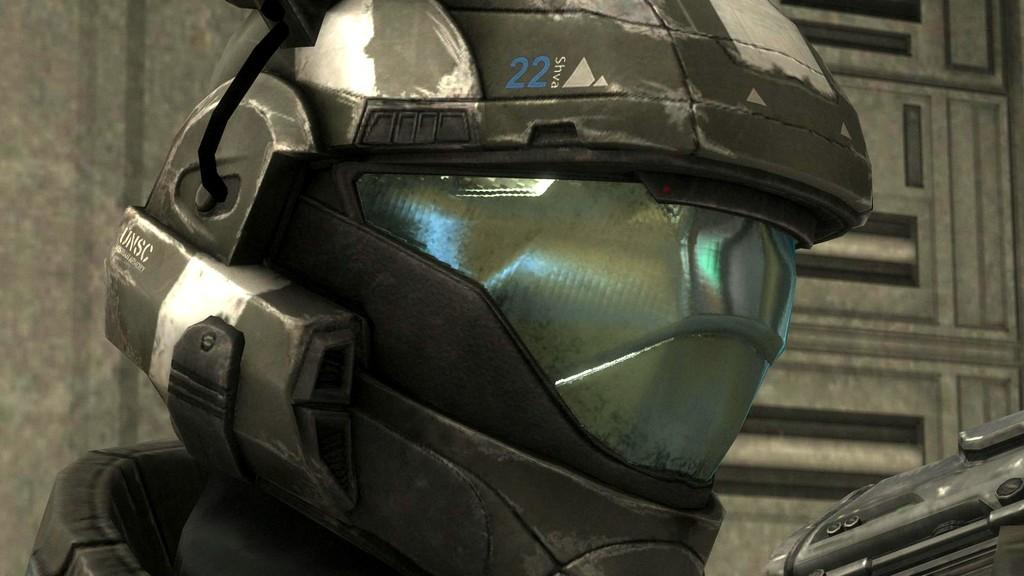helmet: (103, 0, 876, 576)
